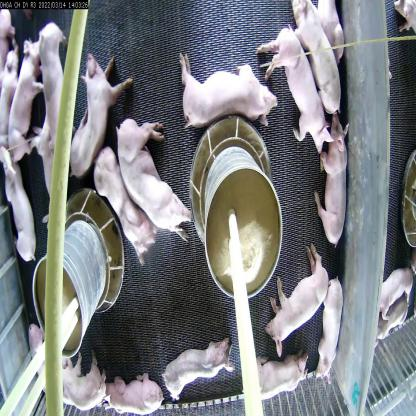Pig: (172, 42, 279, 148), (258, 19, 334, 166), (114, 115, 194, 248), (71, 43, 135, 182), (92, 138, 154, 270), (263, 242, 330, 358), (3, 29, 49, 156), (311, 101, 349, 245), (158, 334, 237, 402), (315, 272, 346, 382), (252, 347, 312, 402), (103, 365, 165, 416), (58, 346, 105, 408)
